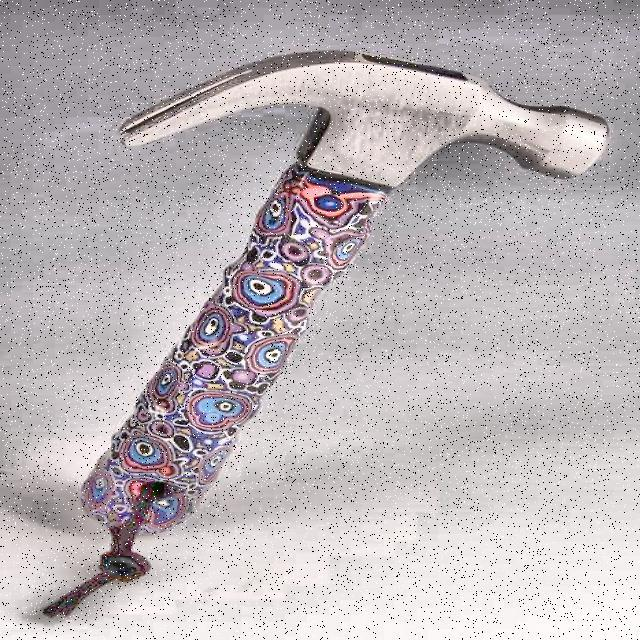hammer: (72, 45, 618, 540)
